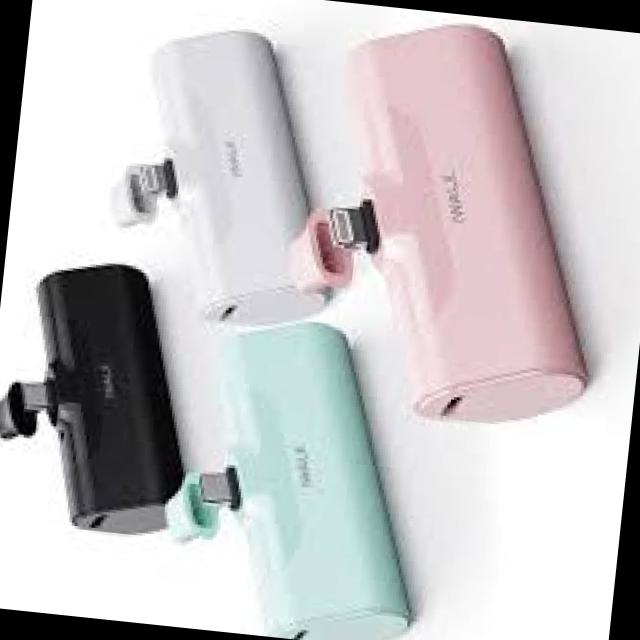portable-charger: (267, 12, 625, 434), (150, 305, 442, 640), (96, 18, 358, 330), (0, 248, 214, 546)
